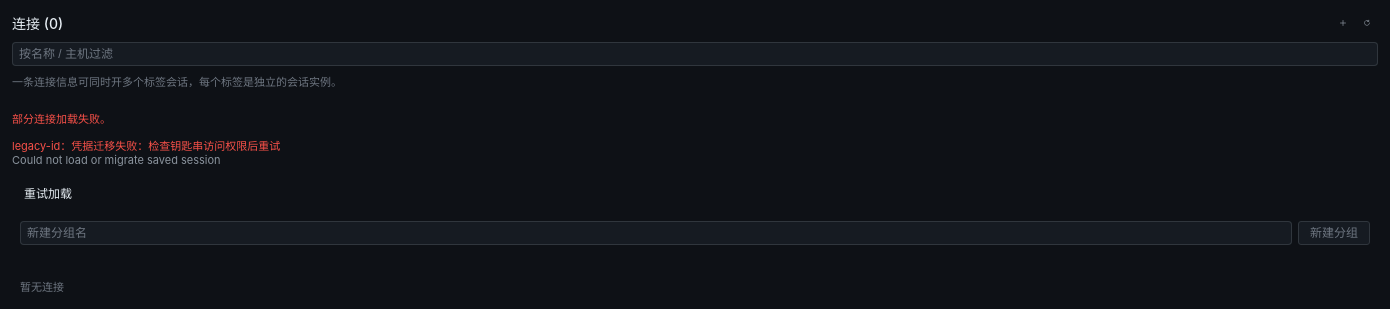
session credential recovery › shows persisted startup failures and retries after Keychain access is restored
The width and height of the screenshot is (1390, 309).
What coordinates should you click on to do the following:
click the button "重试加载"
I would click on:
 (48, 193)
Its box is [12,178,1378,206].
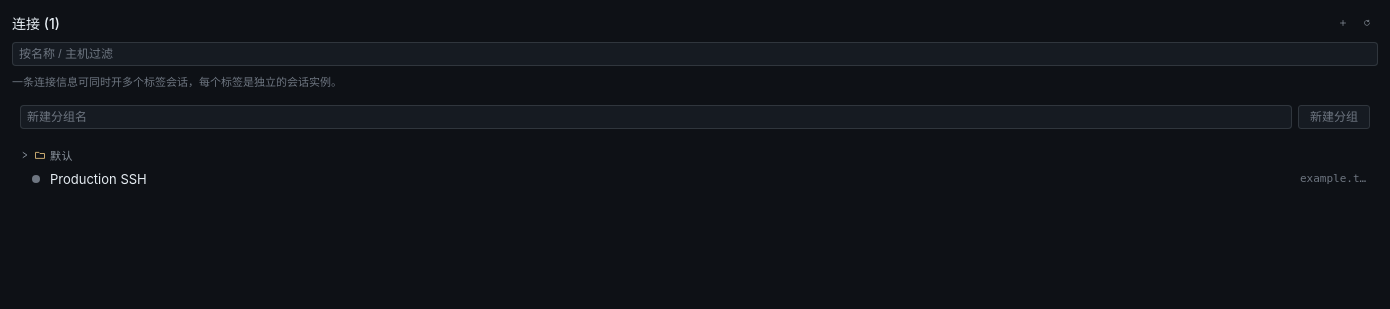
Expected: the text "legacy-id" is gone
Expected: the text "Production SSH" is shown, [50,170,147,186]
